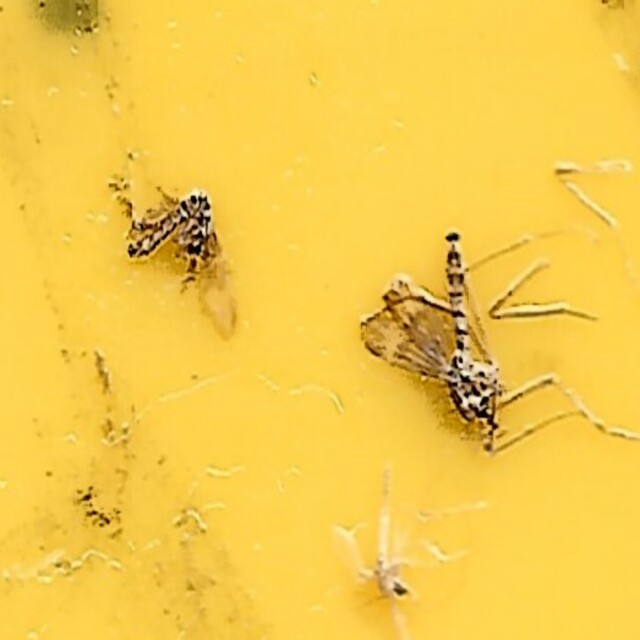Nematocera: (356, 231, 518, 464), (122, 176, 226, 280)
